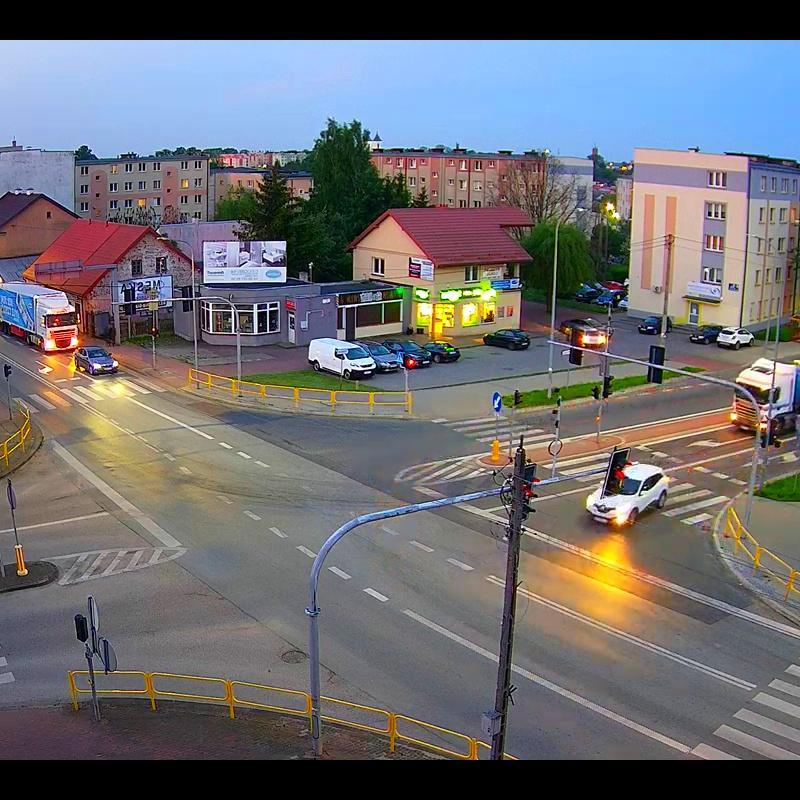car: (584, 465, 670, 534), (308, 334, 377, 378), (356, 338, 401, 374), (384, 336, 432, 368), (74, 344, 119, 374), (481, 326, 528, 350), (714, 327, 758, 352), (560, 316, 614, 336), (634, 313, 673, 336), (687, 322, 725, 344), (424, 341, 460, 364)
truck: (727, 354, 800, 444), (0, 279, 85, 354)
